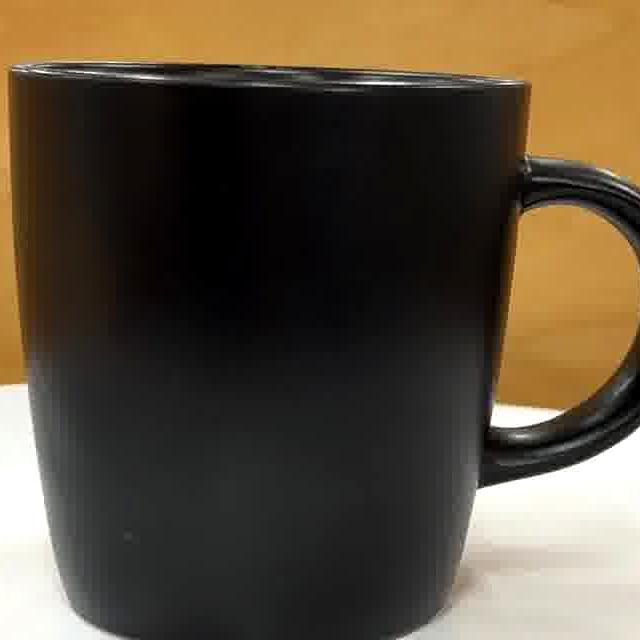cup: (16, 65, 640, 640)
